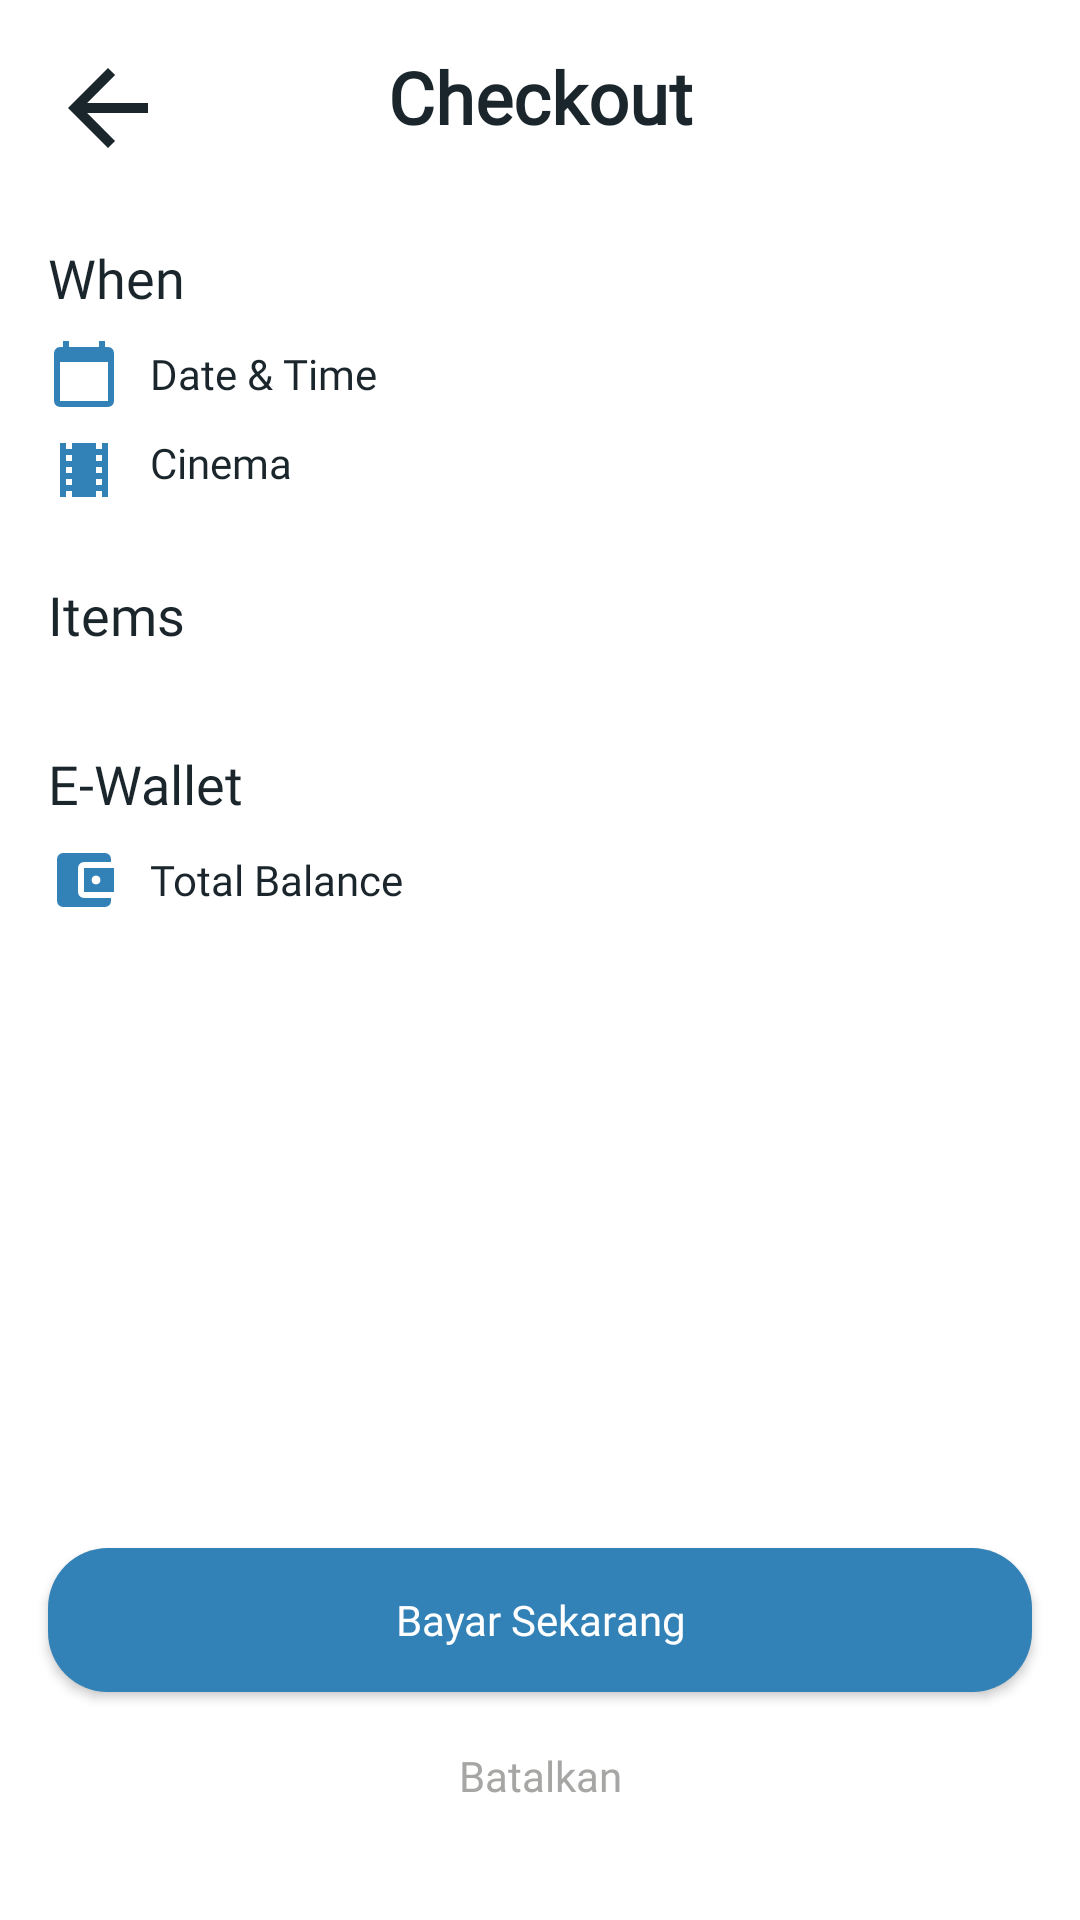

Icons on this 1080 x 1920 Android screen, each with its box as (x1, y1, x2, y2):
arrow back: (68, 68, 148, 148)
